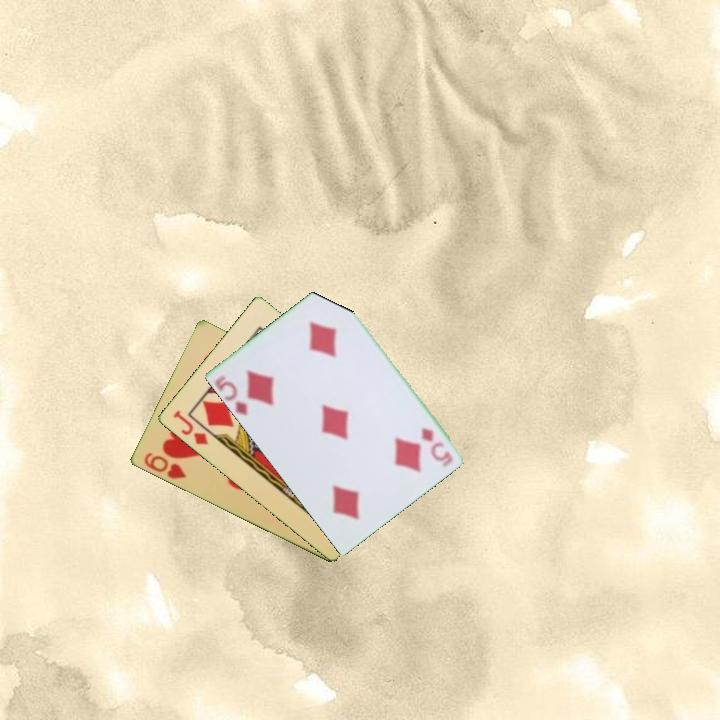5d: (211, 371, 250, 419), (417, 424, 456, 466)
6h: (140, 449, 189, 482)
Jd: (169, 407, 211, 448)
